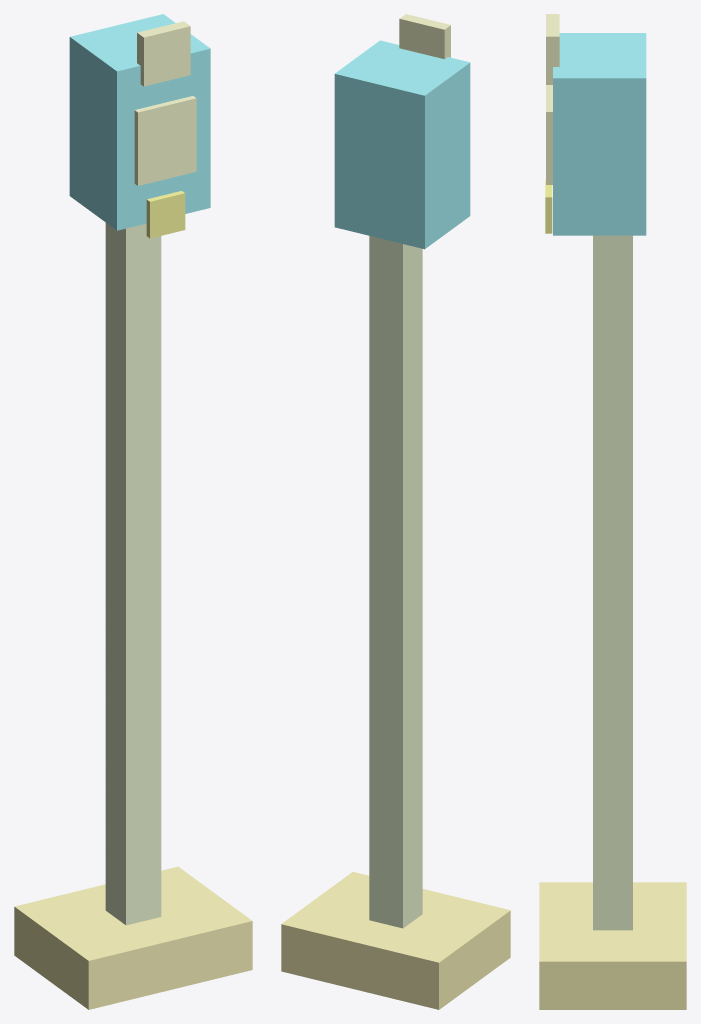
Rendered from furniture_bus_stop_request_pole.glb.
The picture shows the model from 3 angles, left to right: view 1: azimuth 30°, elevation 25°; view 2: azimuth 150°, elevation 25°; view 3: azimuth 270°, elevation 25°; orthographic projection. The views are drawn at different scales.
Visible parts, largest first — view 1: post, base, request_head, request_face, indicator, button; view 2: post, request_head, base, indicator; view 3: post, request_head, base, indicator, request_face, button.
Part boxes in pixels (left/top/right/bottom): post: left=105, top=223, right=161, bottom=925; base: left=14, top=866, right=252, bottom=1009; request_head: left=69, top=14, right=210, bottom=230; request_face: left=134, top=96, right=196, bottom=185; indicator: left=137, top=21, right=190, bottom=86; button: left=146, top=191, right=185, bottom=238; post: left=369, top=236, right=422, bottom=928; request_head: left=334, top=40, right=470, bottom=249; base: left=281, top=872, right=510, bottom=1009; indicator: left=399, top=14, right=450, bottom=59; post: left=593, top=235, right=632, bottom=930; request_head: left=553, top=33, right=646, bottom=235; base: left=539, top=882, right=686, bottom=1009; indicator: left=546, top=14, right=559, bottom=84; request_face: left=546, top=85, right=552, bottom=184; button: left=545, top=180, right=552, bottom=233.
Size of the model in its own units: 0.28 by 1.56 by 0.22.
